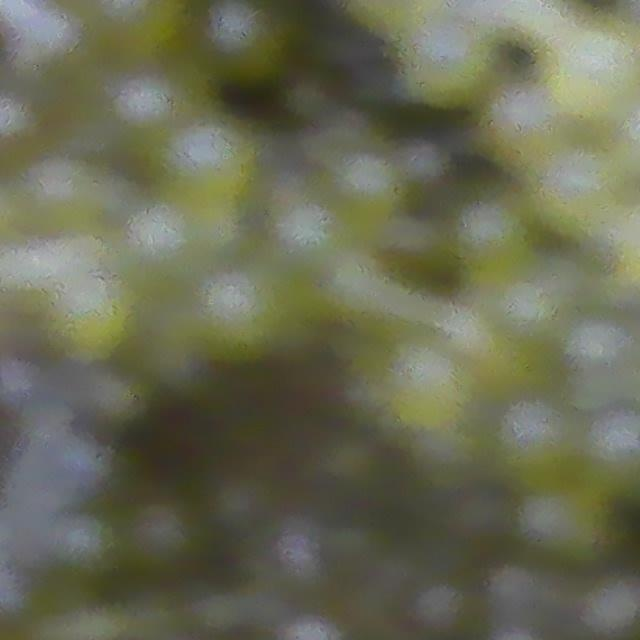SeaGrape: (195, 264, 293, 361), (547, 20, 640, 118), (495, 395, 578, 479), (583, 407, 640, 494), (565, 312, 634, 370)
